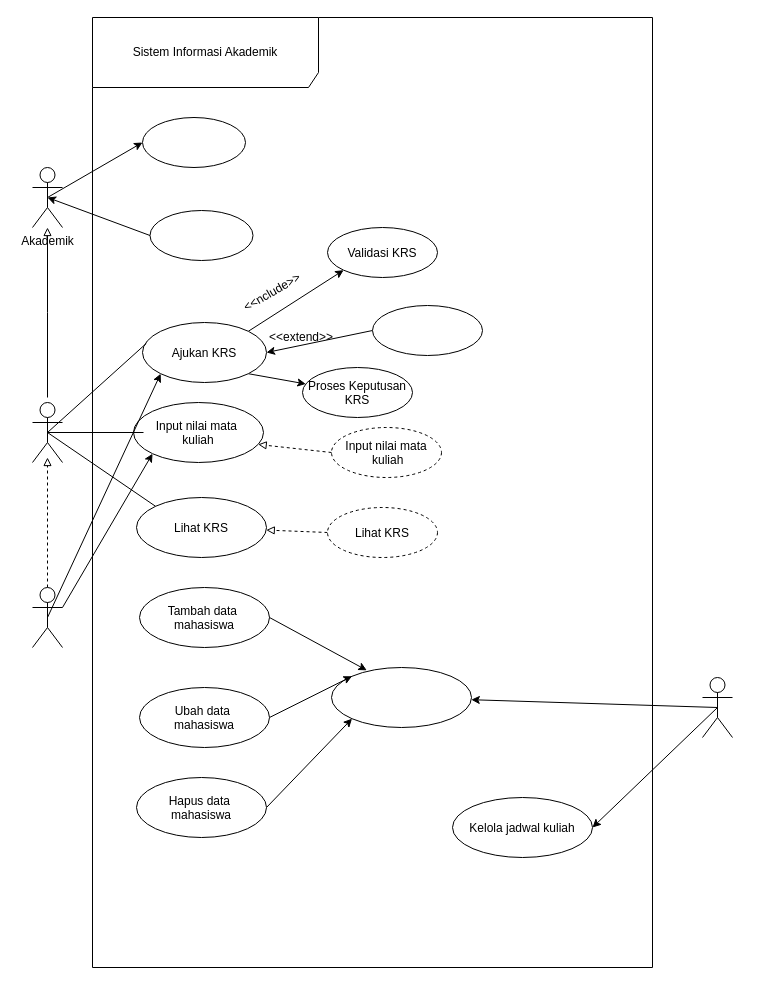
The diagram is 779 pixels wide and 985 high, and some of its shapes have lost their labels. Here are the shapes that lost their labels. From the top down, the centre of each, then its label:
At pixel 194 142: "Lihat jadwal kuliah".
At pixel 201 235: "Lihat kalender akademik".
At pixel 427 330: "Undah bukti pengajuan KRS".
At pixel 47 432: "Mahasiswa".
At pixel 47 617: "Dosen".
At pixel 401 697: "Kelola data mahasiswa".
At pixel 717 707: "Admin Akademik".
